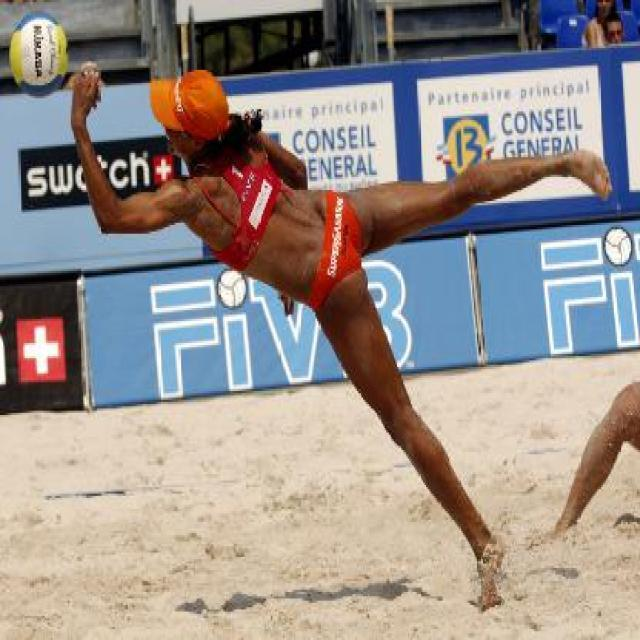volleyball: (9, 11, 71, 100)
